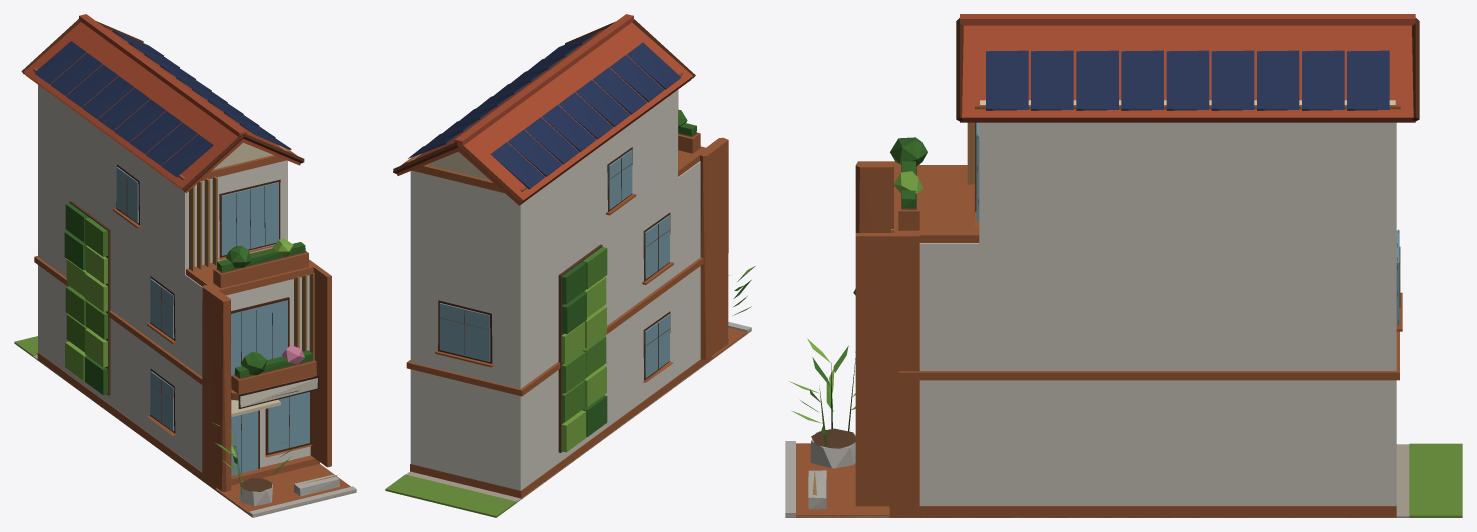
Rendered from bay1_left.glb.
The picture shows the model from 3 angles, left to right: view 1: azimuth 30°, elevation 25°; view 2: azimuth 150°, elevation 25°; view 3: azimuth 270°, elevation 25°; orthographic projection. The views are drawn at different scales.
Visible parts, largest first — view 1: body; view 2: body; view 3: body.
Part boxes in pixels (x1,y1,x2,y2): body: (14, 14, 356, 517); body: (385, 14, 755, 517); body: (785, 14, 1462, 517).
Size of the model in its own units: 4.97 by 12.06 by 15.9.
